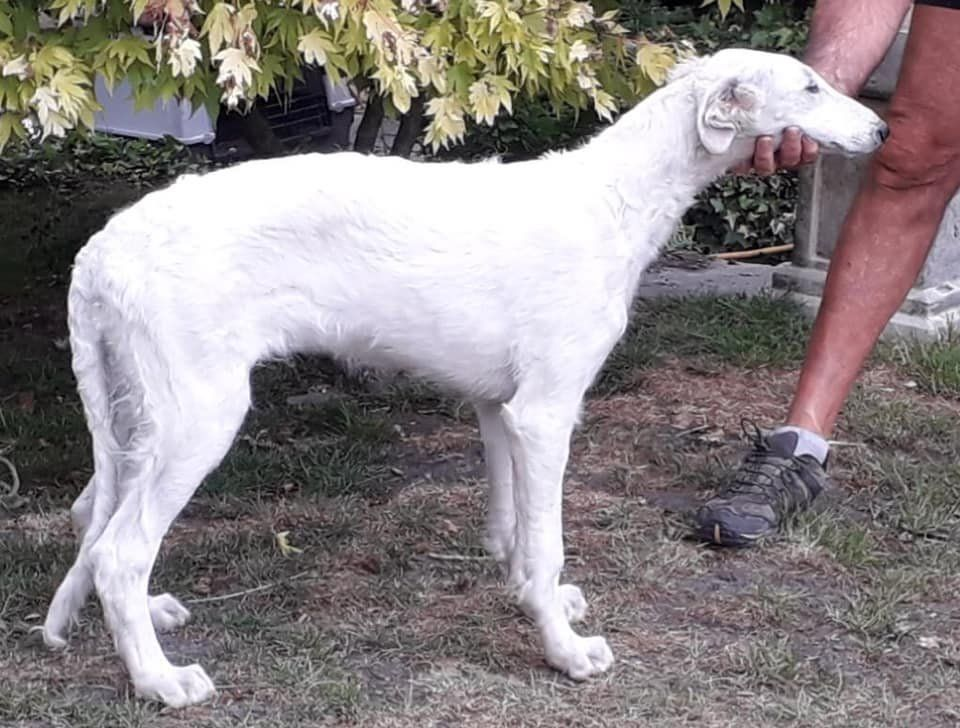borzoi: (15, 48, 900, 700)
